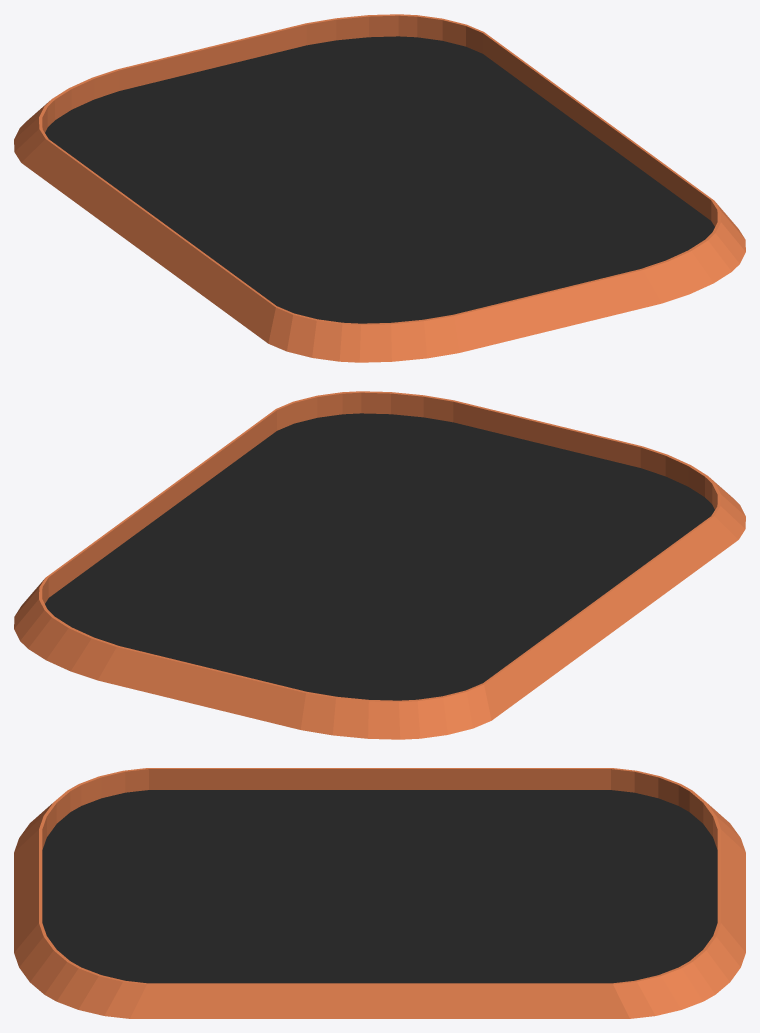
Rendered from Rink.fbx.
The picture shows the model from 3 angles, top to bottom: view 1: azimuth 30°, elevation 25°; view 2: azimuth 150°, elevation 25°; view 3: azimuth 270°, elevation 25°; orthographic projection.
Visible parts, largest first — view 1: Rink; view 2: Rink; view 3: Rink.
Boxes of the visible parts, bbox=[...] form: Rink: bbox=[14, 14, 745, 362]; Rink: bbox=[14, 391, 745, 739]; Rink: bbox=[14, 768, 745, 1018].
Size of the model in its own units: 12042 by 642 by 16035.
